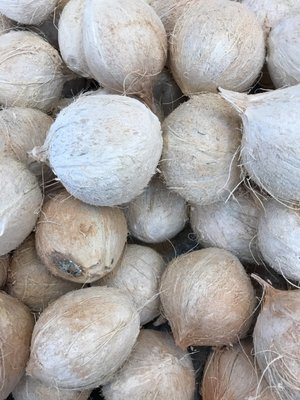curry: (2, 0, 299, 359), (0, 107, 53, 259)
